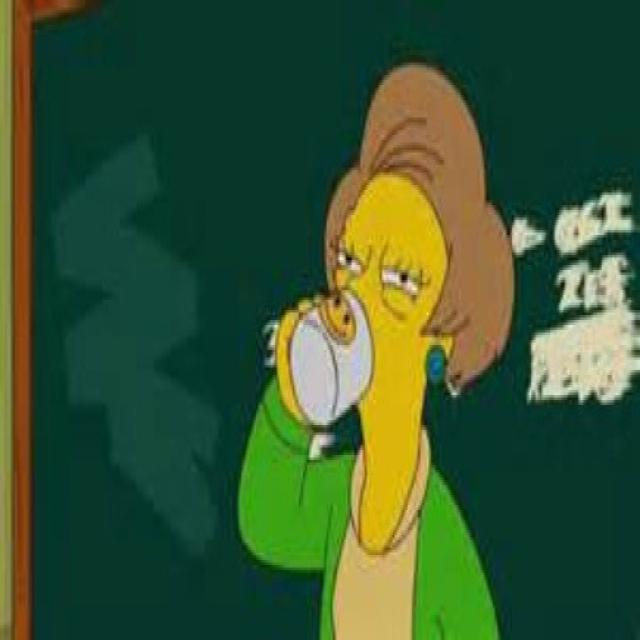Edna Krappel: (319, 55, 517, 505)
